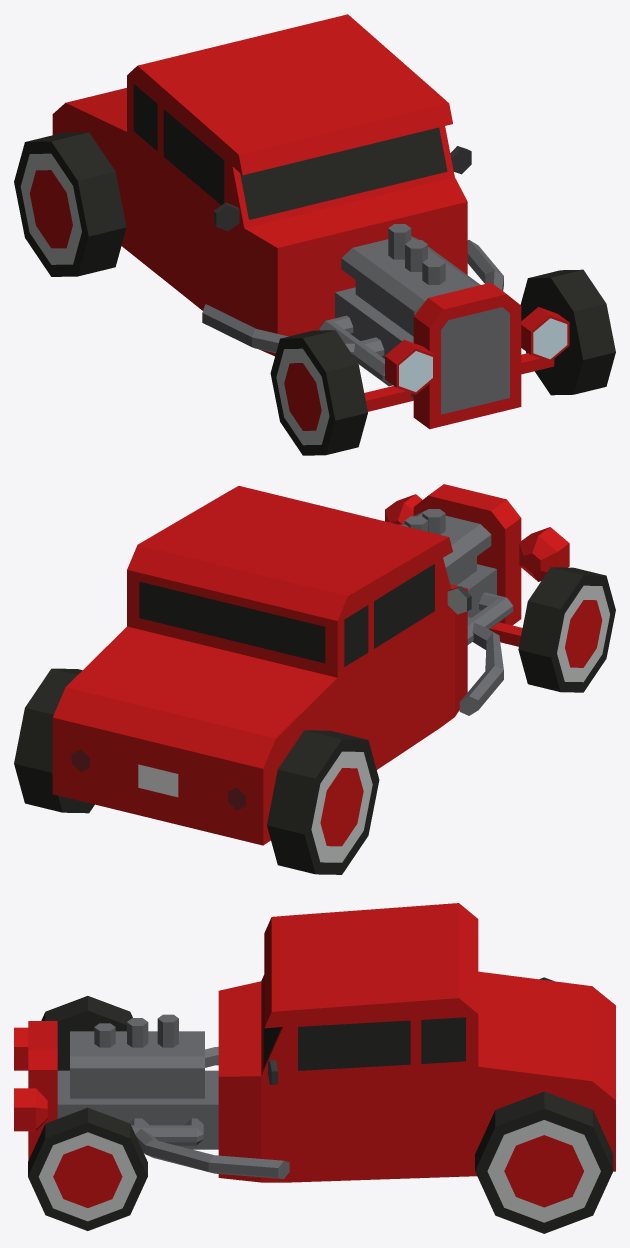
The model's file is Veh_HotRod_Red.glb.
3 renders of one model, top to bottom at view 1: azimuth 30°, elevation 25°; view 2: azimuth 150°, elevation 25°; view 3: azimuth 270°, elevation 25°, orthographic. The views are drawn at different scales.
Visible parts, largest first — view 1: HotRod_Red, Wheel_RR, Wheel_FR, Wheel_FL; view 2: HotRod_Red, Wheel_RR, Wheel_FR, Wheel_RL; view 3: HotRod_Red, Wheel_RL, Wheel_FL, Wheel_FR.
Boxes of the visible parts, box(x1,y1,x2,y2) form: HotRod_Red: box(52, 14, 569, 429); Wheel_RR: box(14, 132, 126, 276); Wheel_FR: box(270, 330, 367, 455); Wheel_FL: box(520, 269, 615, 395); HotRod_Red: box(52, 484, 569, 845); Wheel_RR: box(267, 730, 379, 874); Wheel_FR: box(518, 567, 615, 692); Wheel_RL: box(14, 668, 94, 813); HotRod_Red: box(14, 903, 615, 1182); Wheel_RL: box(475, 1091, 613, 1233); Wheel_FL: box(28, 1107, 147, 1230); Wheel_FR: box(41, 996, 132, 1070).
Bounding box in the file's own units: 1.21 × 0.9391 × 2.35.
1 material, 1 textured.
